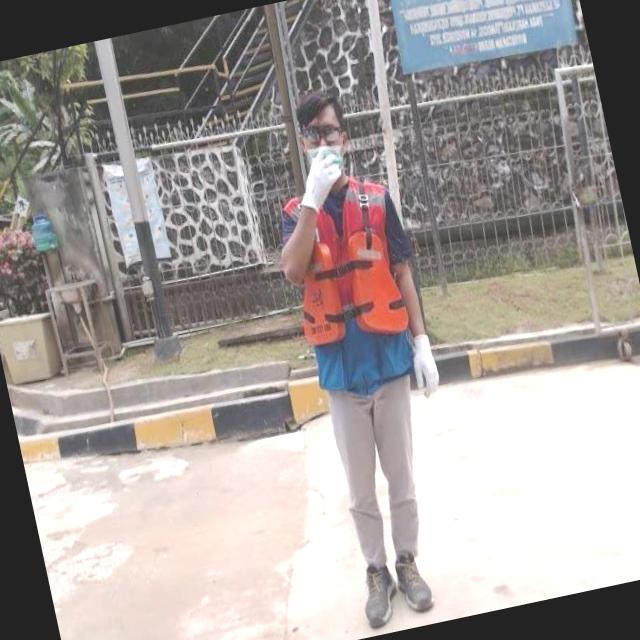vest: (264, 166, 431, 401)
